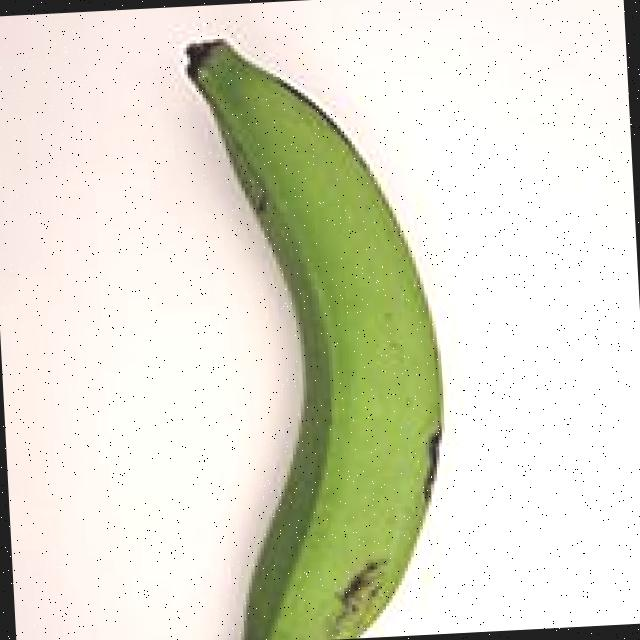Raw: (100, 9, 497, 640)
